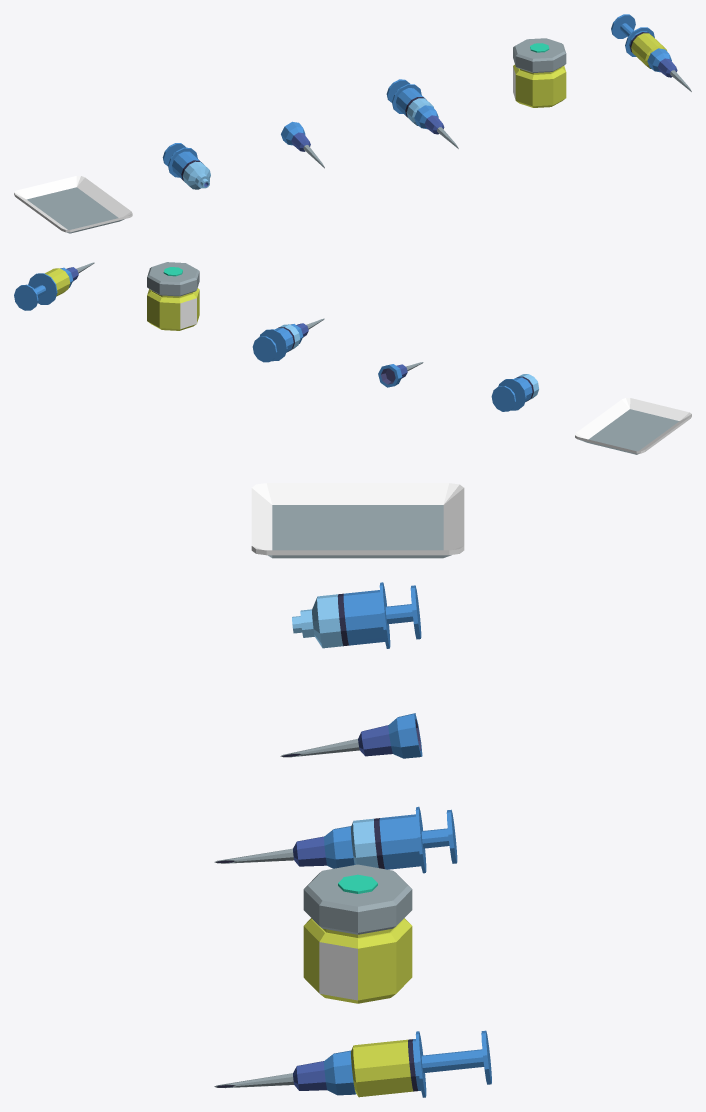
Rendered from Props.glb.
3 views of the same model, one above another, from view 1: azimuth 30°, elevation 25°; view 2: azimuth 150°, elevation 25°; view 3: azimuth 270°, elevation 25° (orthographic). The views are drawn at different scales.
Parts seen in each view (by area): view 1: Tablet, VaccineA, Syringe_Loaded, Syringe_Needle, Syringe, Needle; view 2: Tablet, VaccineA, Syringe_Loaded, Syringe_Needle, Syringe, Needle; view 3: Tablet, VaccineA, Syringe_Loaded, Syringe_Needle, Syringe, Needle.
Part boxes in pixels (<box>): Tablet: <box>14,176,132,233</box>; VaccineA: <box>513,38,566,107</box>; Syringe_Loaded: <box>611,14,691,91</box>; Syringe_Needle: <box>386,79,458,148</box>; Syringe: <box>162,143,210,189</box>; Needle: <box>281,121,324,168</box>; Tablet: <box>575,398,691,454</box>; VaccineA: <box>147,262,199,330</box>; Syringe_Loaded: <box>14,262,94,310</box>; Syringe_Needle: <box>252,318,324,362</box>; Syringe: <box>491,374,538,411</box>; Needle: <box>378,362,423,387</box>; Tablet: <box>251,483,464,558</box>; VaccineA: <box>303,864,412,1003</box>; Syringe_Loaded: <box>214,1030,491,1097</box>; Syringe_Needle: <box>214,806,457,873</box>; Syringe: <box>292,582,421,648</box>; Needle: <box>280,713,422,758</box>.
Bounding box in the file's own units: 5.43 × 0.4197 × 1.05.
Materials: 1 (1 with a texture image).
